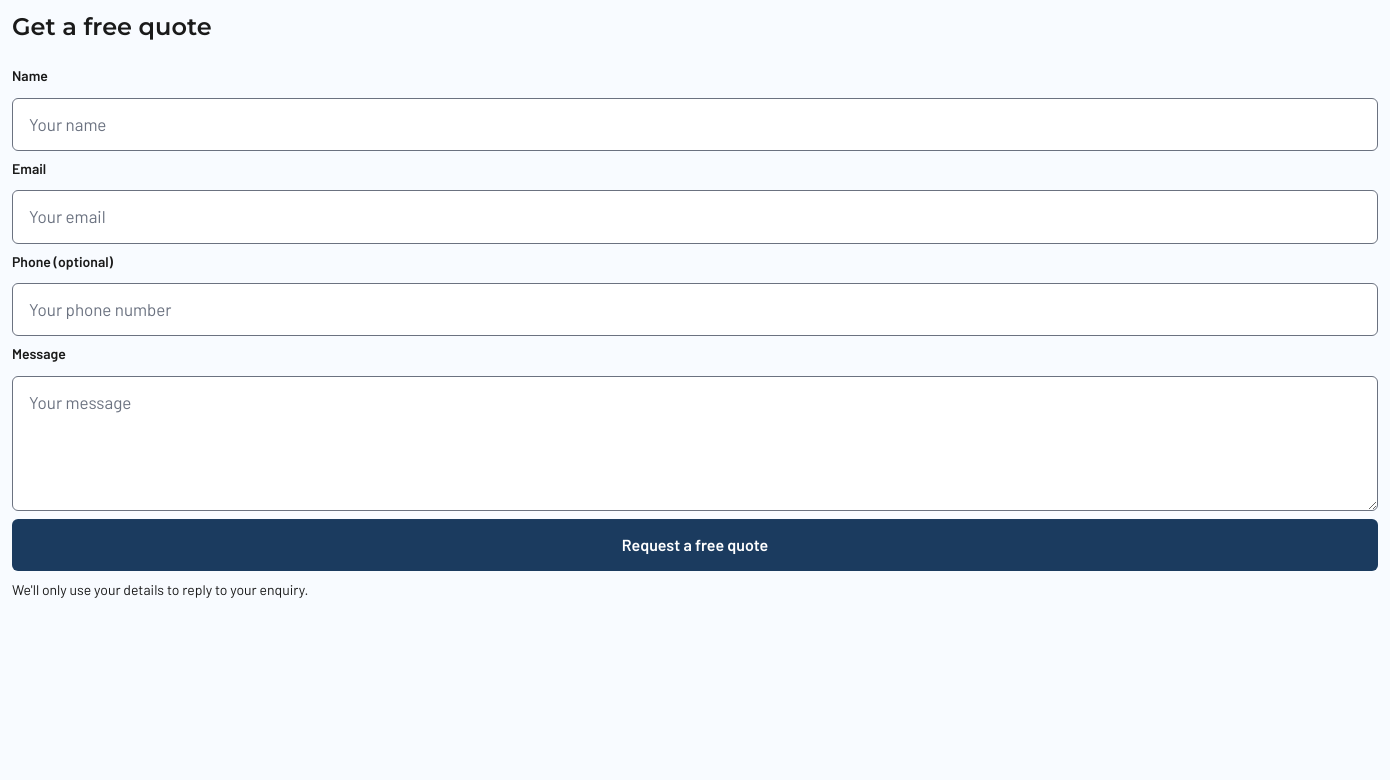
Test case: QuoteRequest › announces failure in the alert region and keeps what was typed
Type "Sam" into the field labelled "Name" at coordinates (695, 124), box [12, 98, 1378, 151]
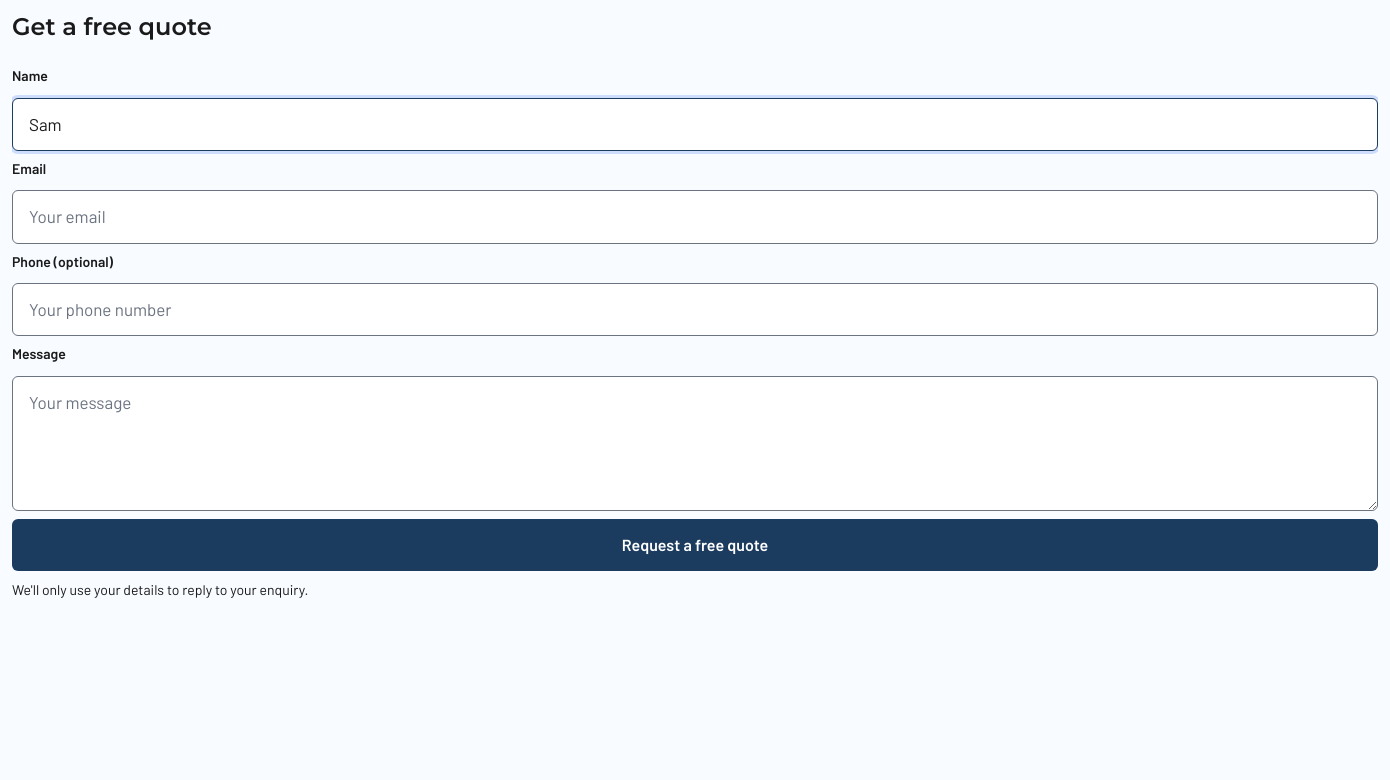
Type "sam@example.com" into the field labelled "Email" at coordinates (695, 217), box [12, 190, 1378, 244]
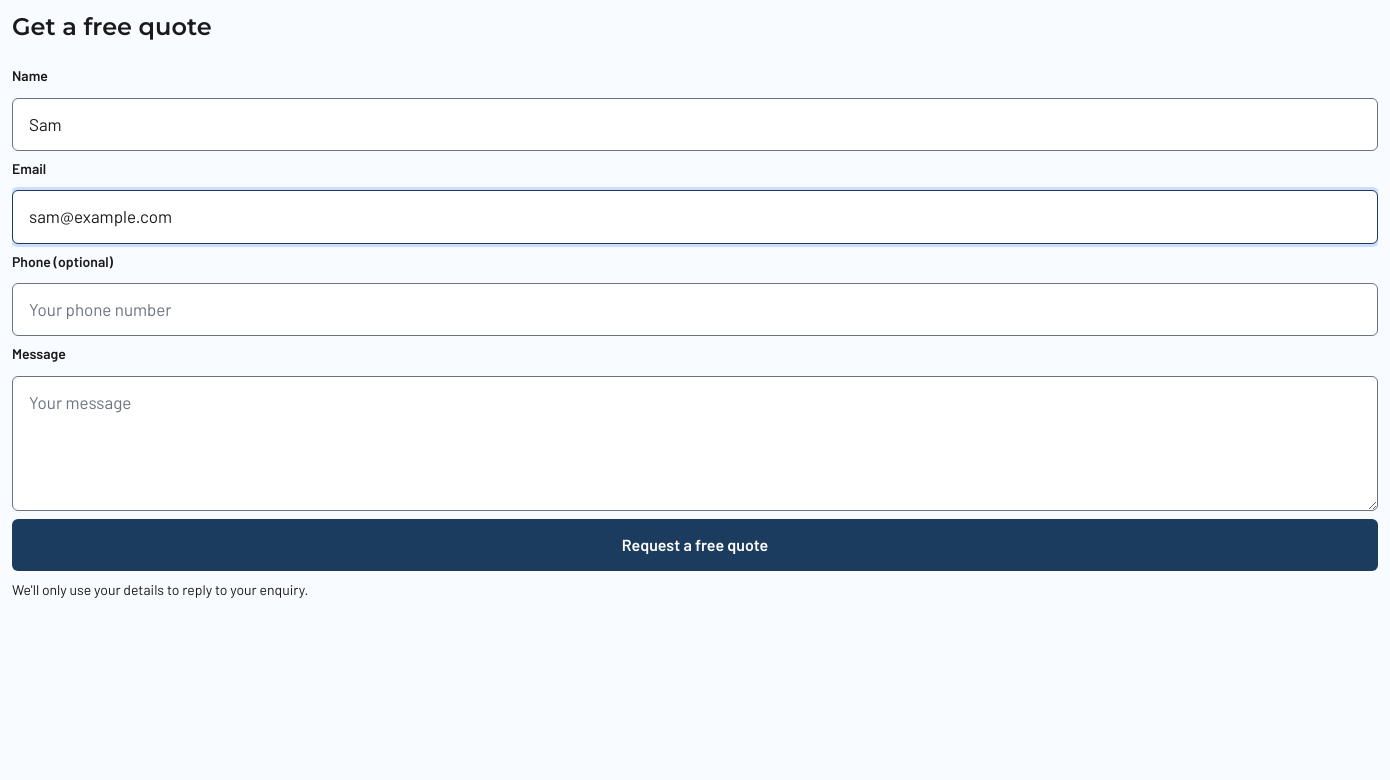
Type "A quote for 10m of fencing please" into the text box labelled "Message" at coordinates (695, 443), box [12, 376, 1378, 511]
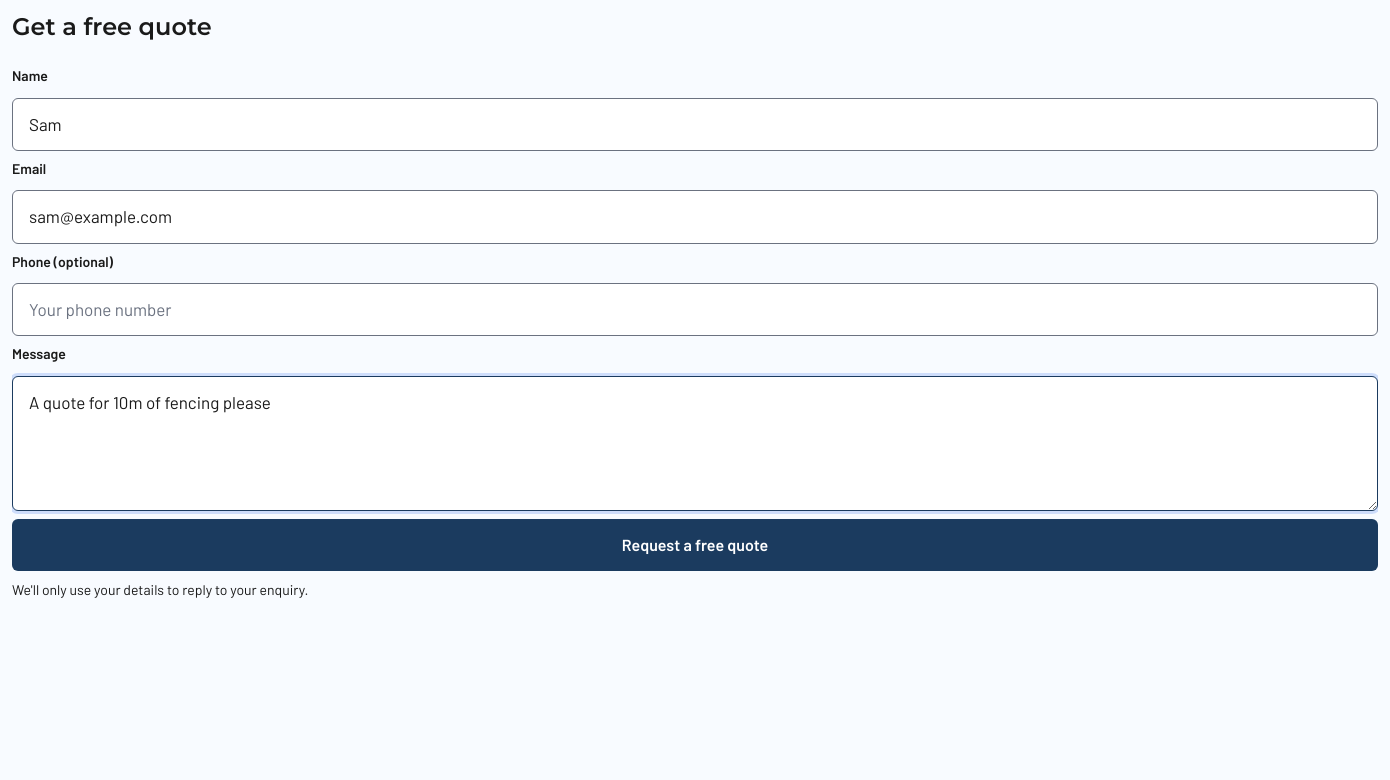
Click the button "Request a free quote" at coordinates (695, 545), box [12, 519, 1378, 571]
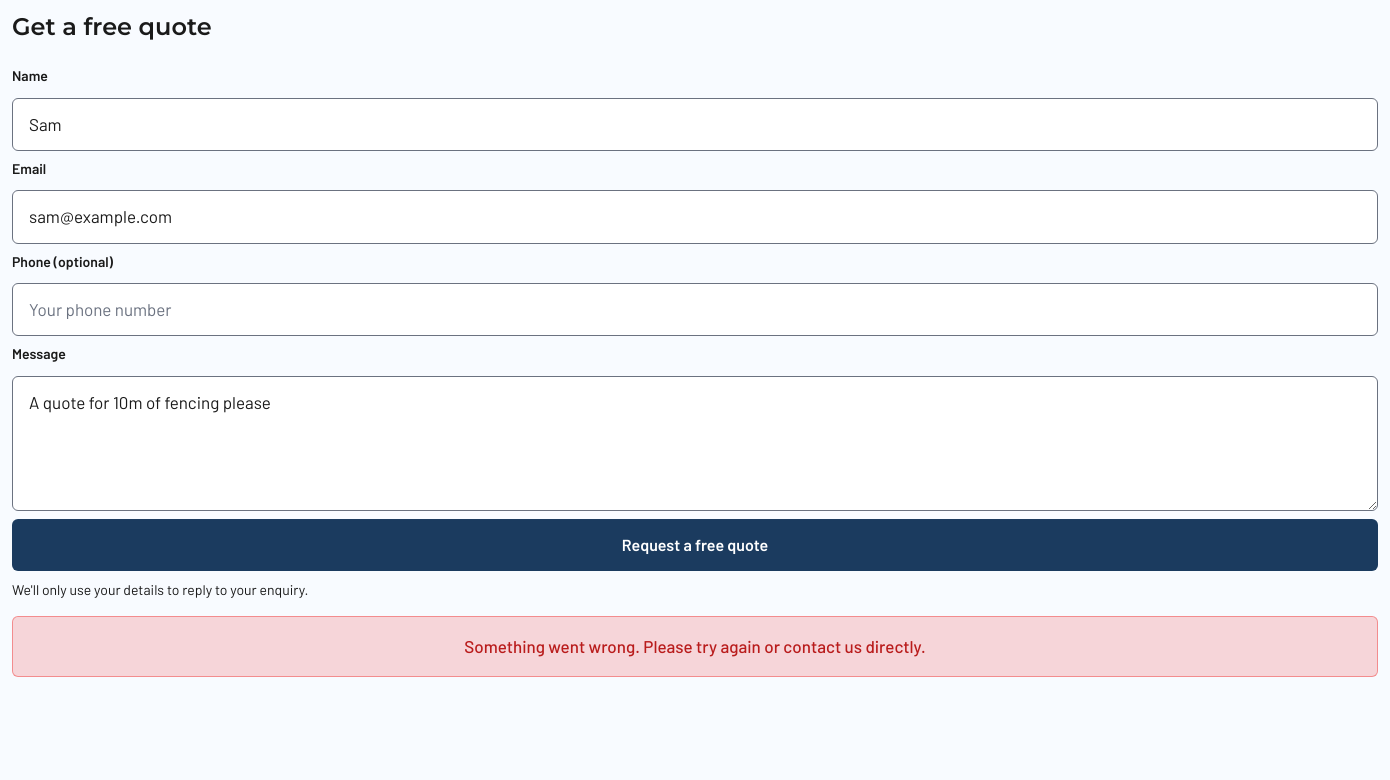
Expected: the message shows "Something went wrong", [464, 636, 926, 656]
